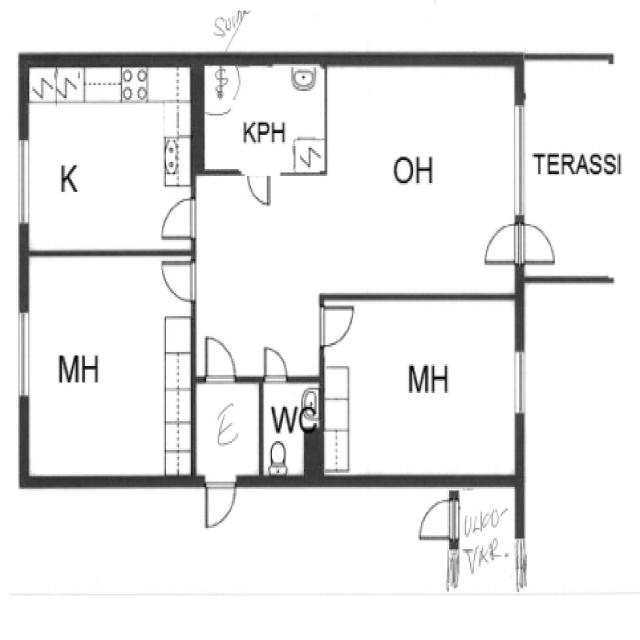door: (507, 218, 560, 266), (479, 217, 527, 269), (413, 495, 458, 546), (202, 474, 240, 533), (317, 300, 359, 351), (202, 332, 239, 383), (157, 195, 197, 242), (158, 257, 197, 304), (260, 343, 290, 384), (245, 170, 272, 208)
window: (511, 99, 530, 221), (14, 133, 33, 232), (511, 342, 529, 422), (16, 308, 31, 400), (510, 532, 530, 590), (608, 48, 640, 72)
zone: (322, 64, 523, 297), (22, 253, 195, 483), (321, 299, 524, 482), (21, 62, 194, 252), (194, 171, 322, 383), (519, 58, 640, 278), (198, 60, 328, 175), (195, 381, 261, 484), (260, 378, 319, 481)
